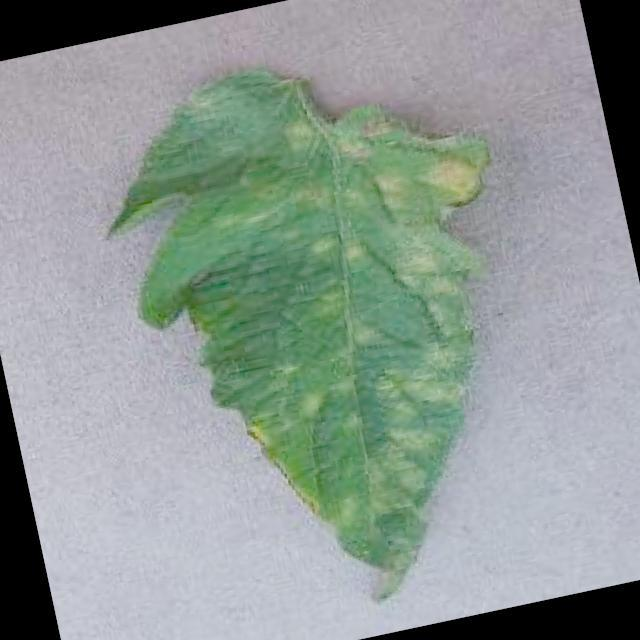Tomato mold leaf: (77, 23, 578, 640)
